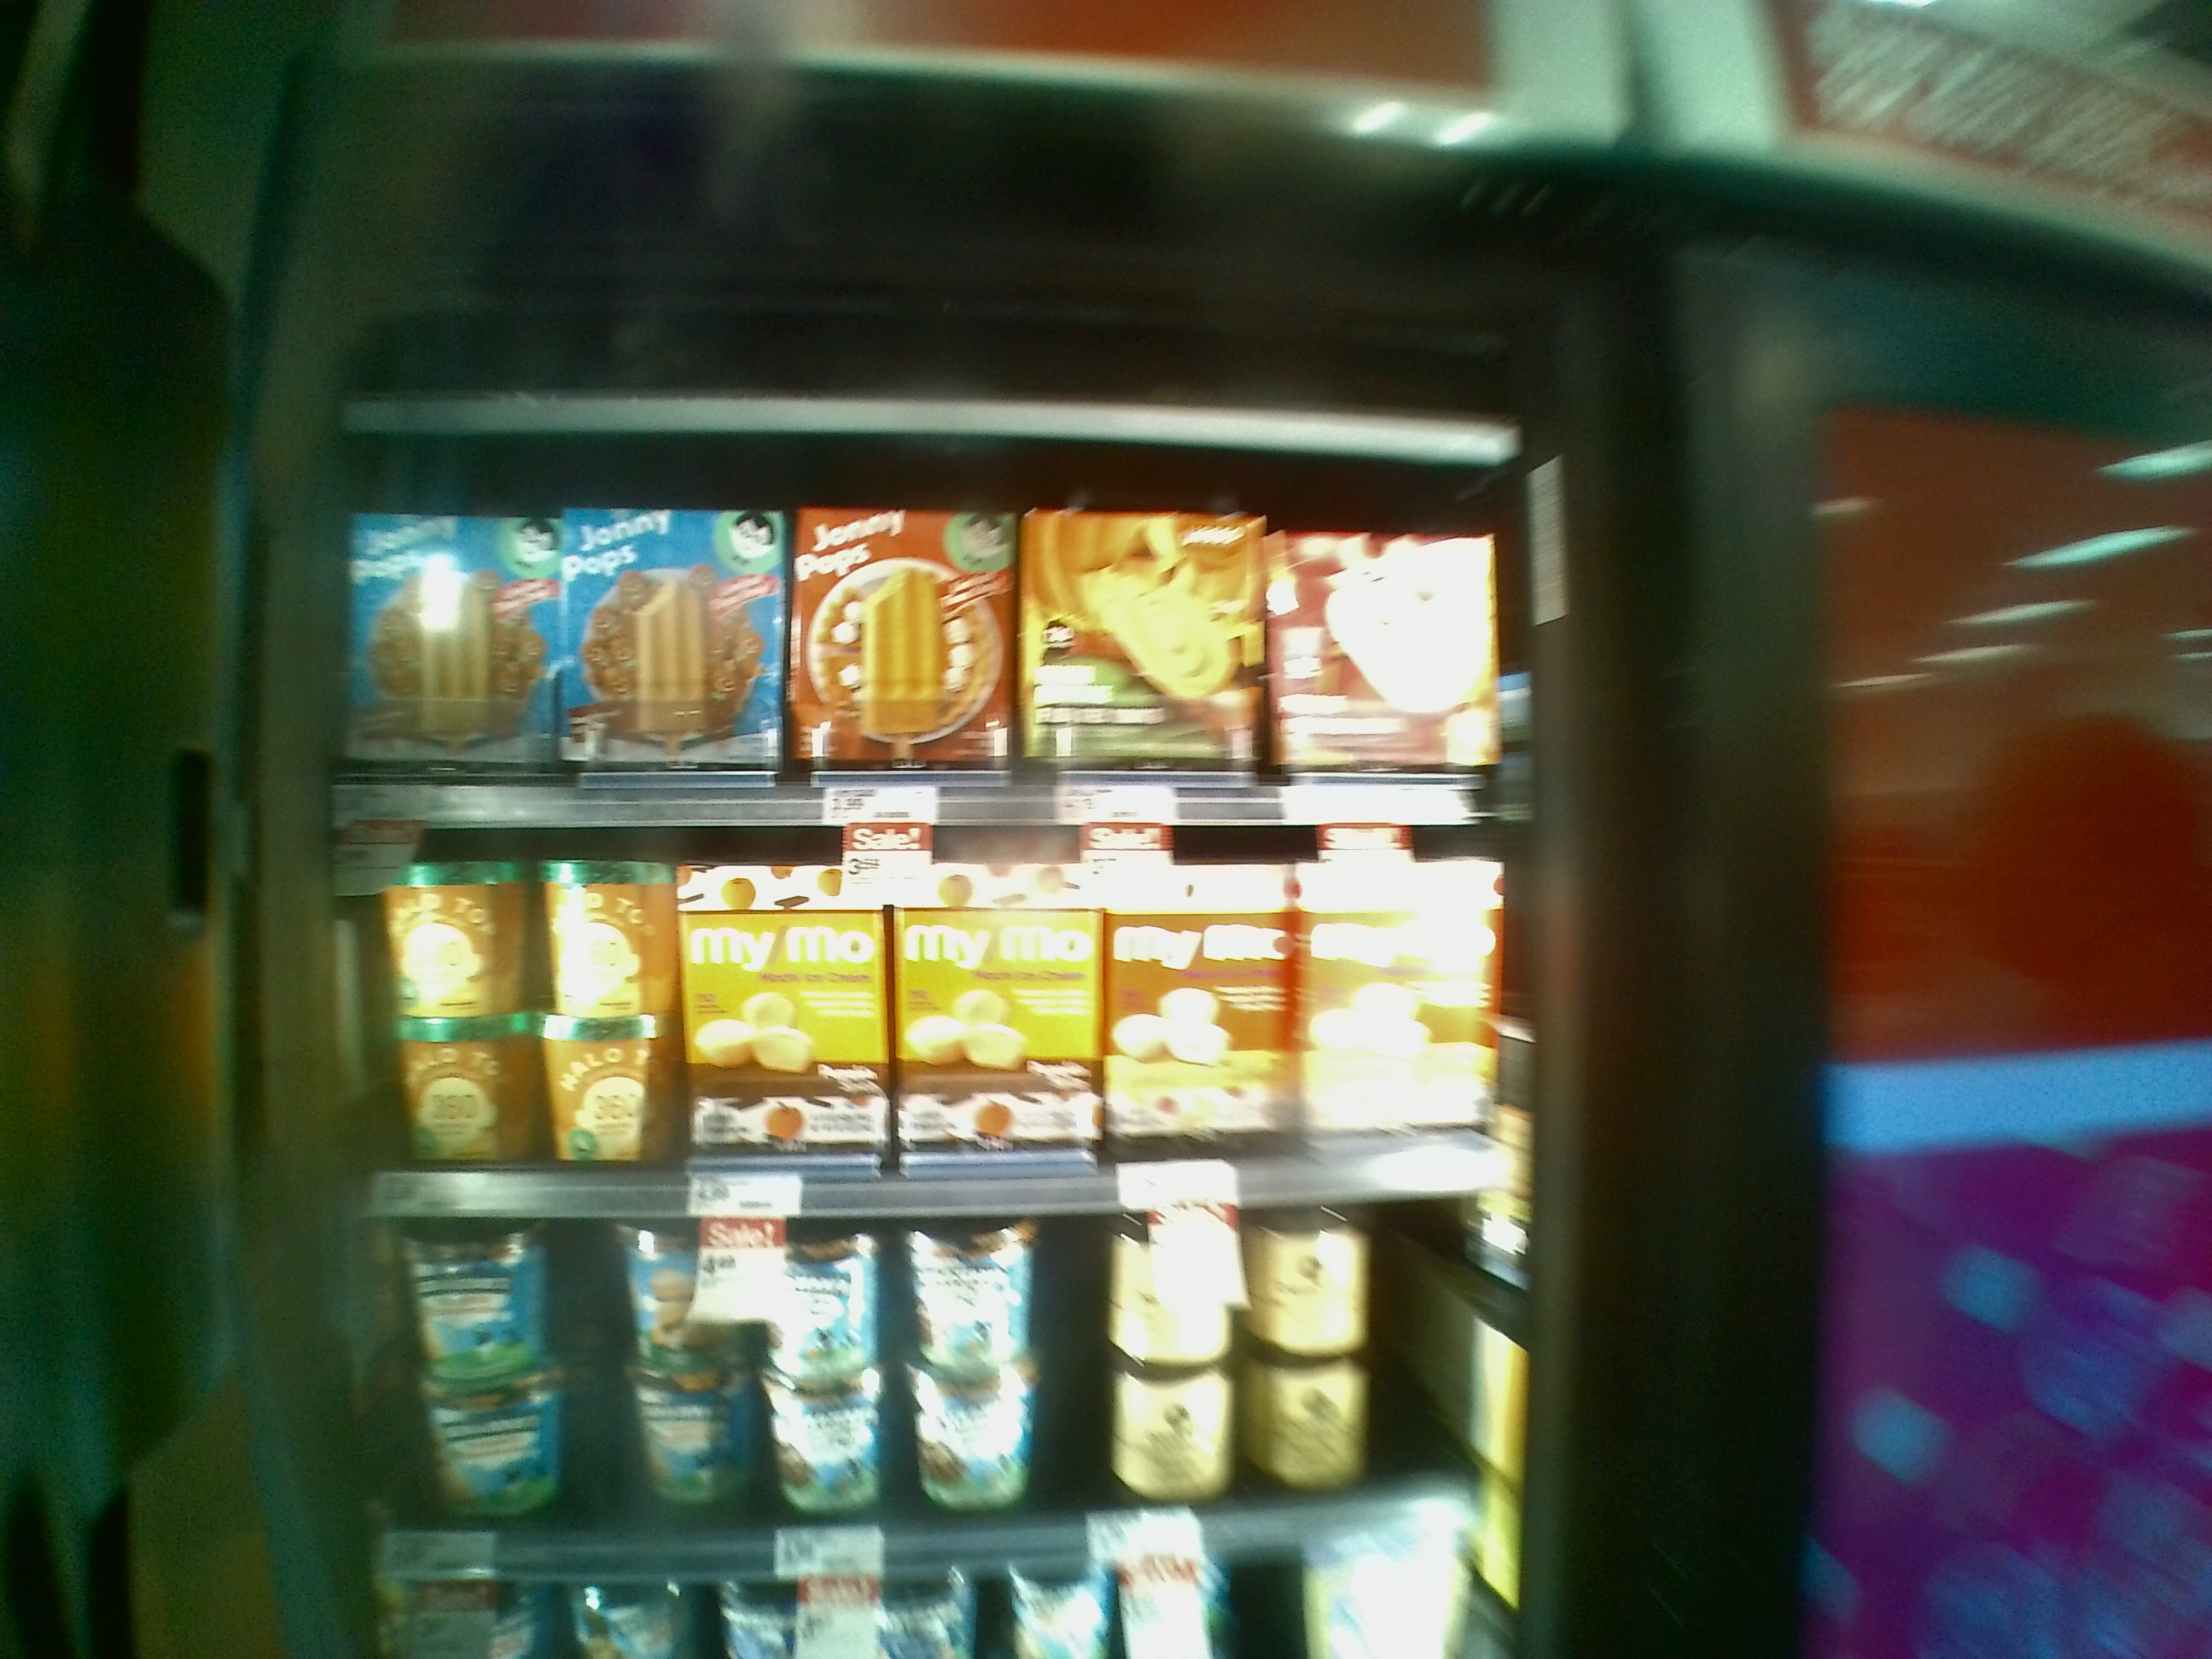shelf: (312, 796, 1522, 1192), (308, 422, 1527, 807), (307, 1190, 1507, 1546)
